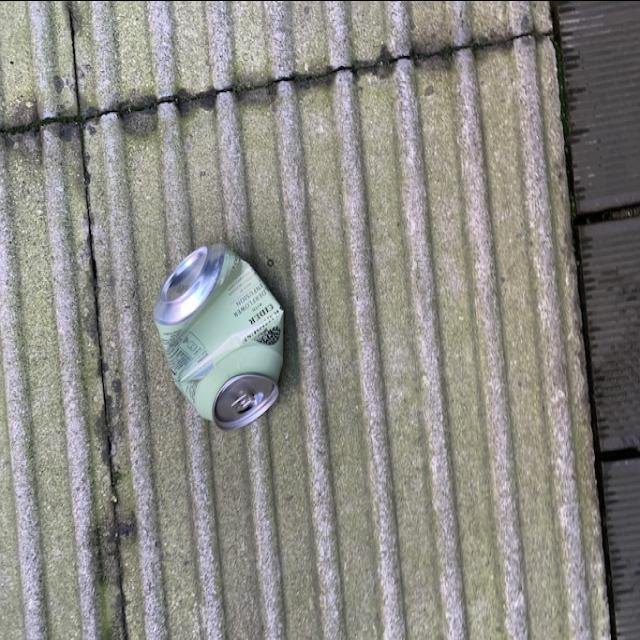Aluminum Can: (150, 223, 288, 438)
